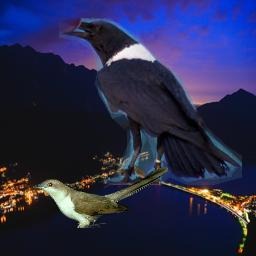Crow: (59, 18, 242, 185)
Cuckoo: (33, 166, 168, 228)
